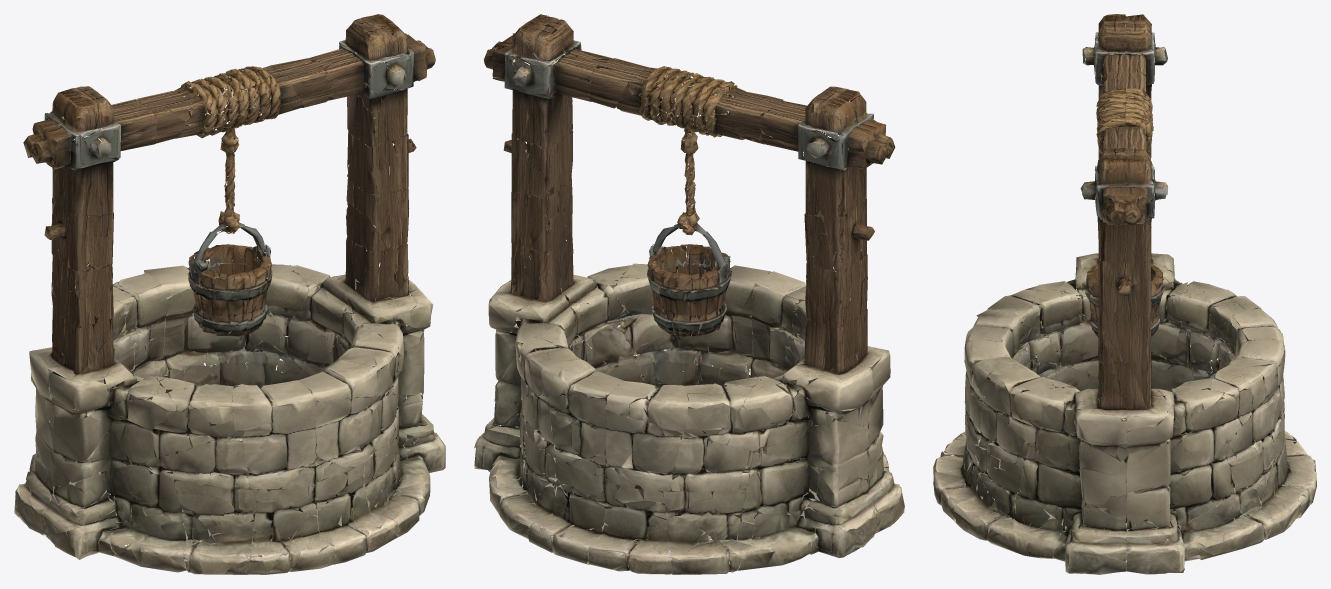
Rendered from o21_tas_kuyu_cikrikli.glb.
3 renders of one model, left to right at view 1: azimuth 30°, elevation 25°; view 2: azimuth 150°, elevation 25°; view 3: azimuth 270°, elevation 25°, orthographic. The views are drawn at different scales.
Parts seen in each view (by area): view 1: Mesh_0; view 2: Mesh_0; view 3: Mesh_0.
Part boxes in pixels (x1=…): Mesh_0: x1=14, y1=14, x2=445, y2=574; Mesh_0: x1=474, y1=14, x2=904, y2=574; Mesh_0: x1=933, y1=14, x2=1316, y2=574.
Bounding box in the file's own units: 1.84 × 1.91 × 1.64.
Materials: 1 (1 with a texture image).
